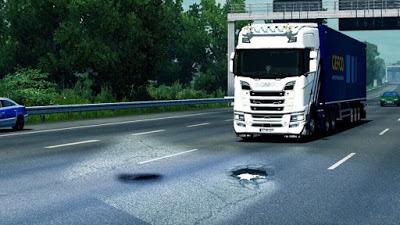Pothole: (214, 152, 285, 194), (107, 162, 164, 189)
